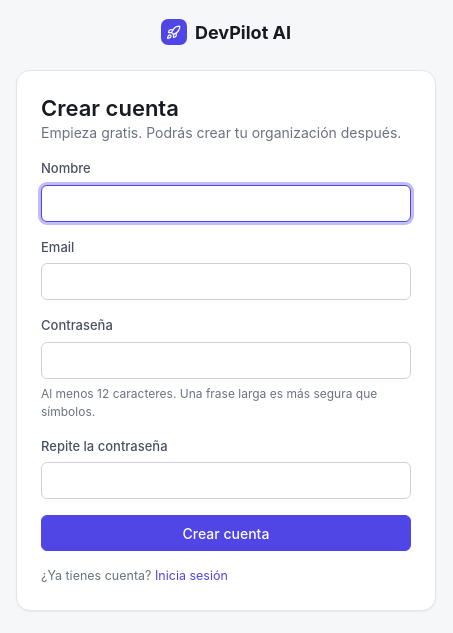
Test: RegisterPage › checks password confirmation and length client-side
This screenshot has width=453, height=633.
In the field labelled "Nombre": {"x": 226, "y": 203} x1=41 y1=185 x2=411 y2=222, type "Ana"
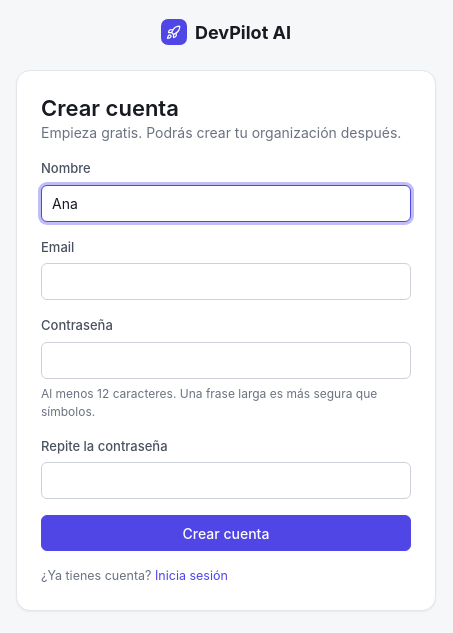
In the field labelled "Email": {"x": 226, "y": 282} x1=41 y1=263 x2=411 y2=300, type "ana@example.com"
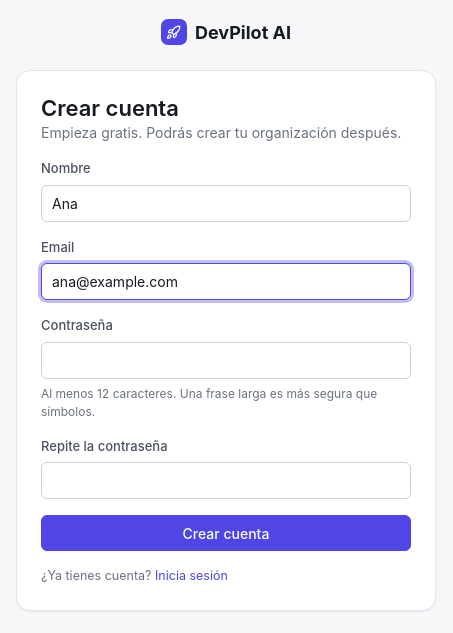
In the password field labelled "Contraseña": {"x": 226, "y": 360} x1=41 y1=342 x2=411 y2=379, type "short"
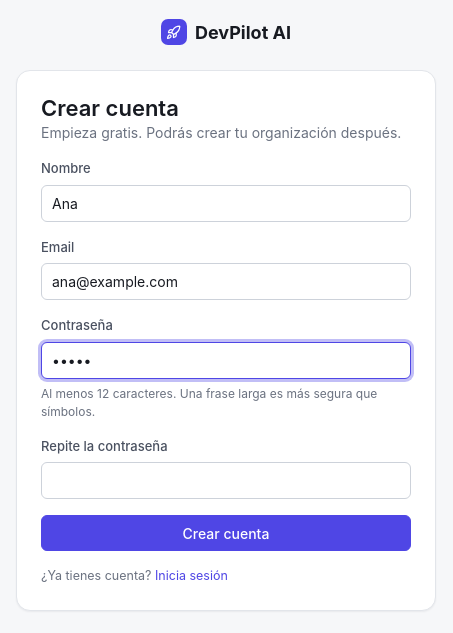
In the password field labelled "Repite la contraseña": {"x": 226, "y": 481} x1=41 y1=462 x2=411 y2=499, type "different"
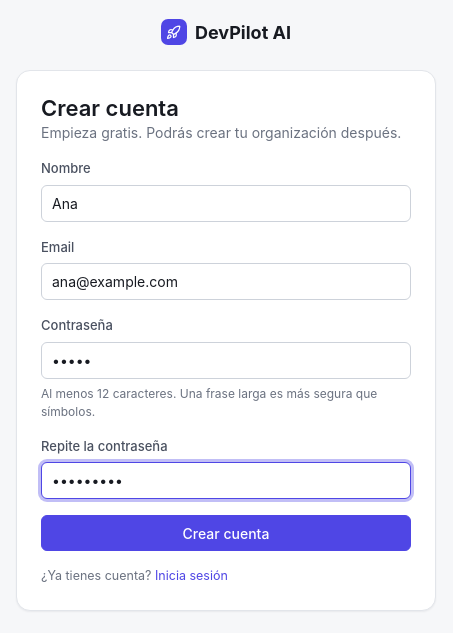
Click the button "Crear cuenta": {"x": 226, "y": 533} x1=41 y1=515 x2=411 y2=551
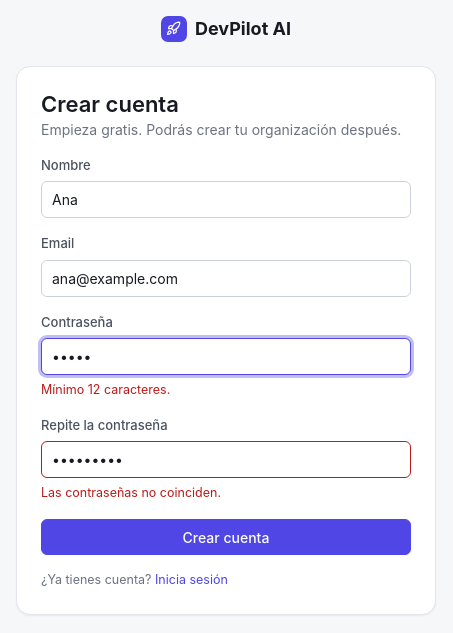
Expected: the text "Mínimo 12 caracteres." is shown, x1=41 y1=382 x2=170 y2=397
Expected: the text "Las contraseñas no coinciden." is shown, x1=41 y1=485 x2=221 y2=500
